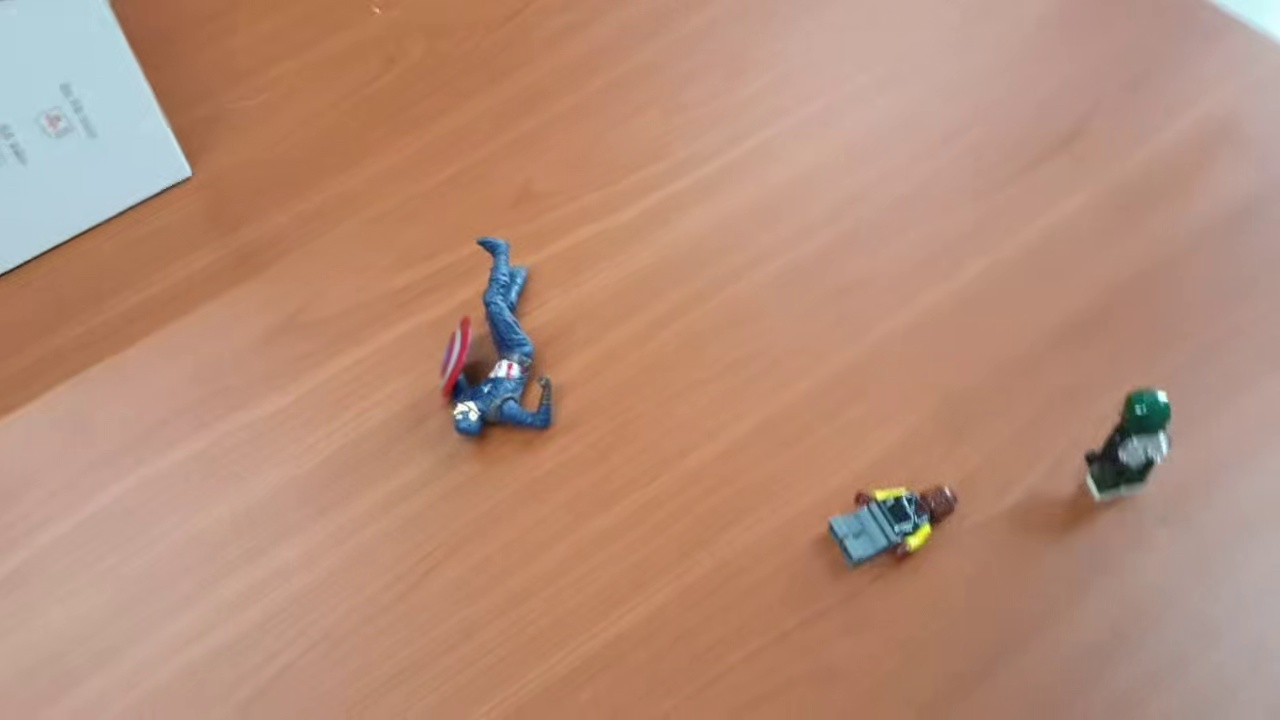people: (441, 233, 554, 444), (821, 477, 961, 565), (1082, 388, 1174, 504)
